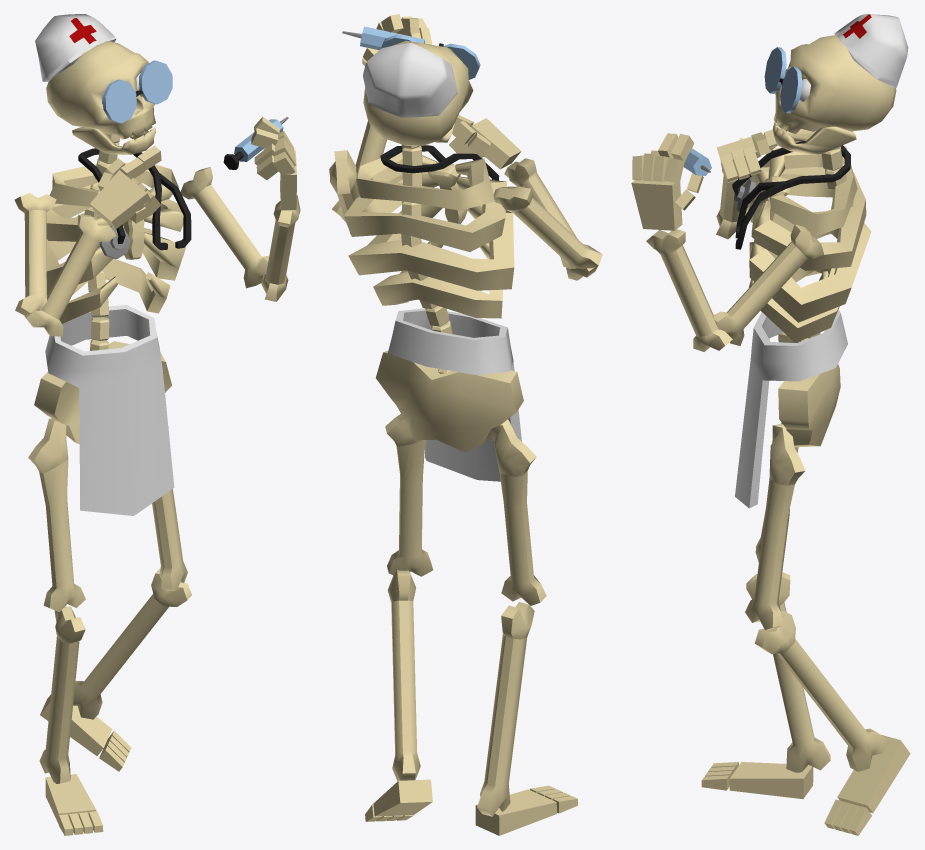
Rendered from skeleton_NURSE_frame02.fbx.
3 renders of one model, left to right at view 1: azimuth 30°, elevation 25°; view 2: azimuth 150°, elevation 25°; view 3: azimuth 270°, elevation 25°, orthographic. The views are drawn at different scales.
Parts seen in each view (by area): view 1: skeleton_nurse_frame02; view 2: skeleton_nurse_frame02; view 3: skeleton_nurse_frame02.
Part boxes in pixels (x1,y1,x2,y2): skeleton_nurse_frame02: [14, 14, 300, 835]; skeleton_nurse_frame02: [329, 14, 602, 835]; skeleton_nurse_frame02: [631, 14, 910, 835].
Size of the model in its own units: 66.63 by 183 by 57.98.
